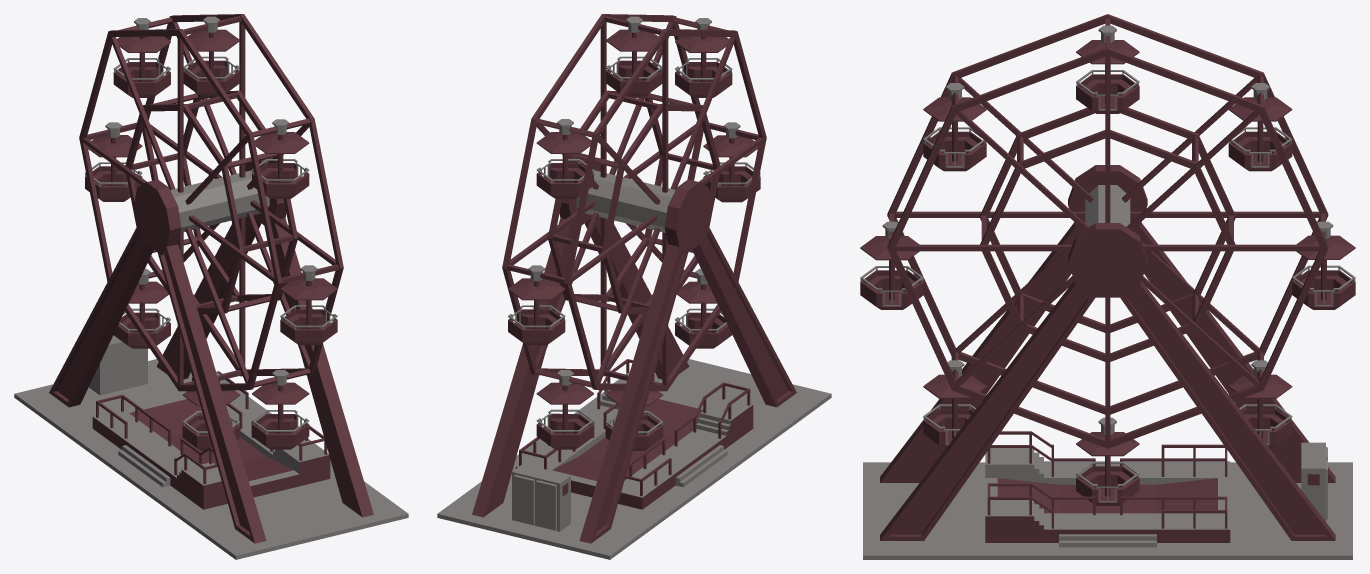
The model's file is ferris-wheel.fbx.
3 views of the same model, side by side, from view 1: azimuth 30°, elevation 25°; view 2: azimuth 150°, elevation 25°; view 3: azimuth 270°, elevation 25° (orthographic). The views are drawn at different scales.
Visible parts, largest first — view 1: ferris-wheel-stand, ferris-wheel-main, ferris-wheel-gondola3, ferris-wheel-gondola2, ferris-wheel-gondola4, ferris-wheel-gondola5, ferris-wheel-gondola6, ferris-wheel-gondola8, ferris-wheel-gondola7, ferris-wheel-gondola1; view 2: ferris-wheel-stand, ferris-wheel-main, ferris-wheel-gondola7, ferris-wheel-gondola8, ferris-wheel-gondola6, ferris-wheel-gondola5, ferris-wheel-gondola4, ferris-wheel-gondola2, ferris-wheel-gondola3, ferris-wheel-gondola1; view 3: ferris-wheel-stand, ferris-wheel-main, ferris-wheel-gondola1, ferris-wheel-gondola5, ferris-wheel-gondola6, ferris-wheel-gondola7, ferris-wheel-gondola4, ferris-wheel-gondola3, ferris-wheel-gondola8, ferris-wheel-gondola2.
Boxes of the visible parts, x1,y1,x2,y2 form: ferris-wheel-stand: [14, 153, 408, 559]; ferris-wheel-main: [79, 14, 343, 391]; ferris-wheel-gondola3: [280, 265, 337, 345]; ferris-wheel-gondola2: [252, 370, 309, 449]; ferris-wheel-gondola4: [252, 119, 309, 198]; ferris-wheel-gondola5: [183, 16, 240, 96]; ferris-wheel-gondola6: [113, 18, 170, 97]; ferris-wheel-gondola8: [113, 268, 170, 348]; ferris-wheel-gondola7: [85, 122, 142, 201]; ferris-wheel-gondola1: [182, 371, 240, 450]; ferris-wheel-stand: [437, 153, 831, 559]; ferris-wheel-main: [502, 14, 766, 391]; ferris-wheel-gondola7: [508, 265, 565, 345]; ferris-wheel-gondola8: [536, 370, 593, 449]; ferris-wheel-gondola6: [536, 119, 593, 198]; ferris-wheel-gondola5: [605, 16, 662, 96]; ferris-wheel-gondola4: [675, 18, 732, 97]; ferris-wheel-gondola2: [675, 268, 732, 348]; ferris-wheel-gondola3: [703, 122, 760, 202]; ferris-wheel-gondola1: [605, 371, 663, 450]; ferris-wheel-stand: [863, 165, 1352, 559]; ferris-wheel-main: [887, 14, 1328, 448]; ferris-wheel-gondola1: [1076, 417, 1139, 505]; ferris-wheel-gondola5: [1076, 25, 1139, 113]; ferris-wheel-gondola6: [1228, 83, 1292, 171]; ferris-wheel-gondola7: [1292, 221, 1355, 309]; ferris-wheel-gondola4: [923, 83, 986, 171]; ferris-wheel-gondola3: [860, 221, 923, 309]; ferris-wheel-gondola8: [1228, 360, 1292, 448]; ferris-wheel-gondola2: [923, 360, 986, 448].
Bounding box in the file's own units: 9 × 21.81 × 20.22.
